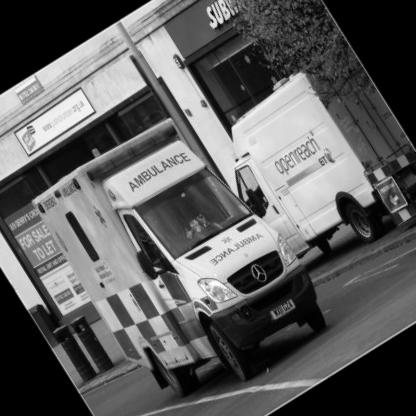ambulance: (5, 76, 361, 416)
truck: (202, 29, 416, 281)
